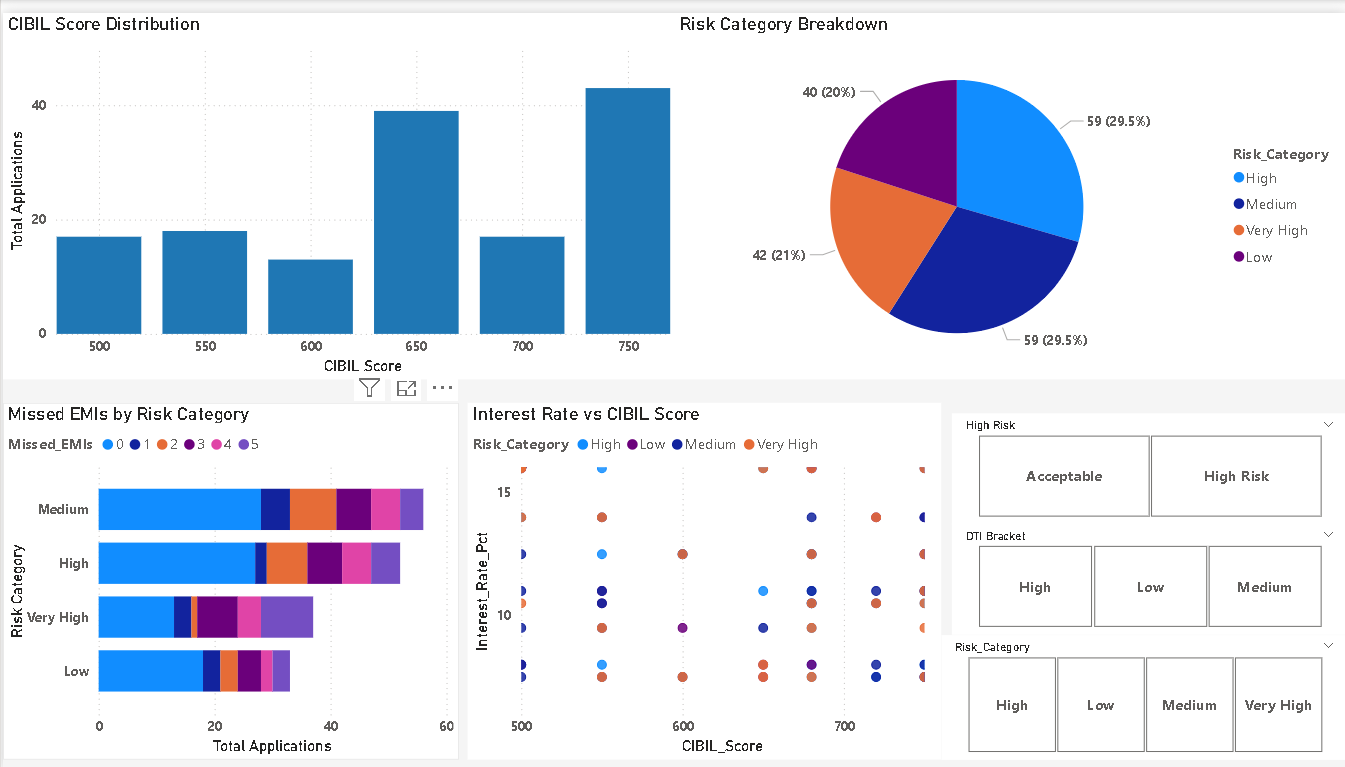

The page's visual inventory and layout, read from the dashboard file:
{"tool":"powerbi","page":{"name":"Risk Analysis Dashboard","canvas":[1280,720],"ordinal":1},"visuals":[{"type":"columnChart","title":"CIBIL Score Distribution","fields":{"Category":["Banking_Data.CIBIL_Score (bins)"],"Y":["CountNonNull(Banking_Data.Loan_ID)"]},"box":[0,0,640.1,349],"z":0},{"type":"pieChart","title":"Risk Category Breakdown","fields":{"Category":["Banking_Data.Risk_Category"],"Y":["CountNonNull(Banking_Data.Loan_ID)"]},"box":[640.1,0,640.1,349],"z":1000},{"type":"scatterChart","title":"Interest Rate vs CIBIL Score","fields":{"X":["Banking_Data.CIBIL_Score"],"Y":["Banking_Data.Interest_Rate_Pct"],"Series":["Banking_Data.Risk_Category"]},"box":[443.1,370.9,450.8,340],"z":4000},{"type":"barChart","title":"Missed EMIs by Risk Category","fields":{"Category":["Banking_Data.Risk_Category"],"Series":["Banking_Data.Missed_EMIs"],"Y":["CountNonNull(Banking_Data.Loan_ID)"]},"box":[0,370.9,434.1,340],"z":5000},{"type":"slicer","fields":{"Values":["Banking_Data.Risk_Category"]},"box":[893.9,592.5,386.4,118.5],"z":6000},{"type":"slicer","fields":{"Values":["Banking_Data.High Risk"]},"box":[904.2,381.2,376.1,105.6],"z":7000},{"type":"slicer","fields":{"Values":["Banking_Data.DTI Bracket"]},"box":[904.2,486.9,376.1,105.6],"z":8000}]}

Visuals, with their boxes in screenshot pixels (x1, y1, x2, y2), scaled from the page's 1280x720 canvas onto the 1345x767 screenshot:
"CIBIL Score Distribution" columnChart: bbox=[0, 0, 673, 372]
"Risk Category Breakdown" pieChart: bbox=[673, 0, 1344, 372]
"Interest Rate vs CIBIL Score" scatterChart: bbox=[466, 395, 939, 757]
"Missed EMIs by Risk Category" barChart: bbox=[0, 395, 456, 757]
slicer - Banking_Data.Risk_Category: bbox=[939, 631, 1344, 757]
slicer - Banking_Data.High Risk: bbox=[950, 406, 1344, 519]
slicer - Banking_Data.DTI Bracket: bbox=[950, 519, 1344, 631]
